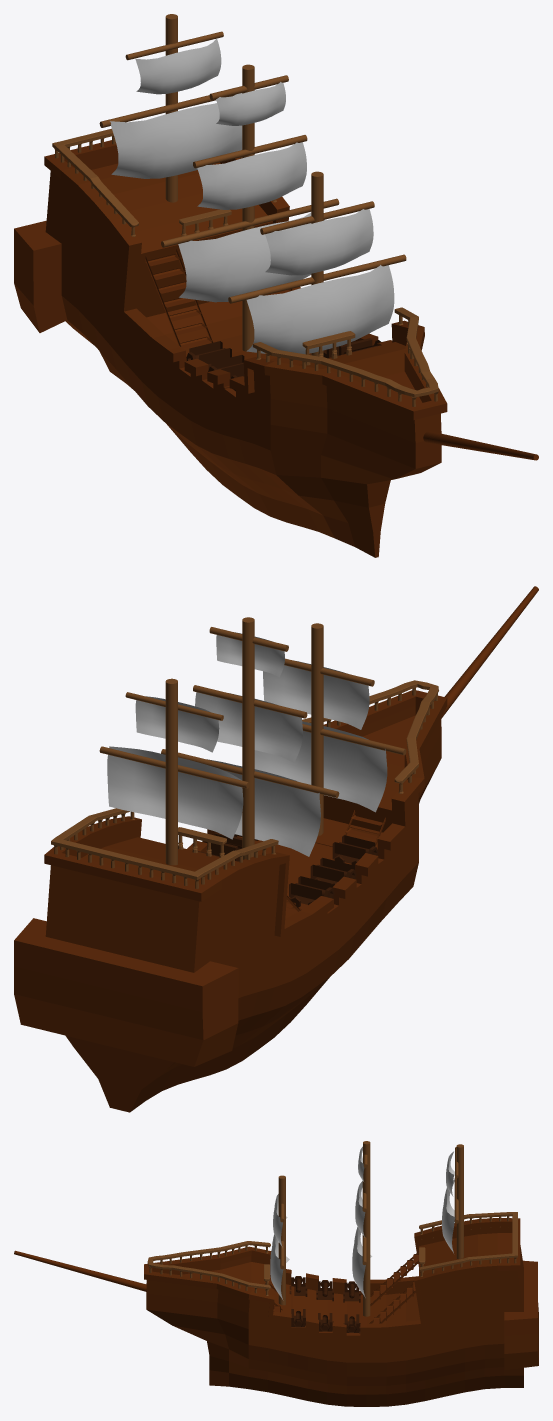
File: pirate_boatV1.fbx
The picture shows the model from 3 angles, top to bottom: view 1: azimuth 30°, elevation 25°; view 2: azimuth 150°, elevation 25°; view 3: azimuth 270°, elevation 25°; orthographic projection. The views are drawn at different scales.
Parts seen in each view (by area): view 1: Cube.005; view 2: Cube.005; view 3: Cube.005.
Boxes of the visible parts, x1=… form: Cube.005: x1=14, y1=14, x2=538, y2=557; Cube.005: x1=14, y1=586, x2=538, y2=1112; Cube.005: x1=14, y1=1141, x2=538, y2=1406.
Size of the model in its own units: 1381 by 2750 by 5007.
